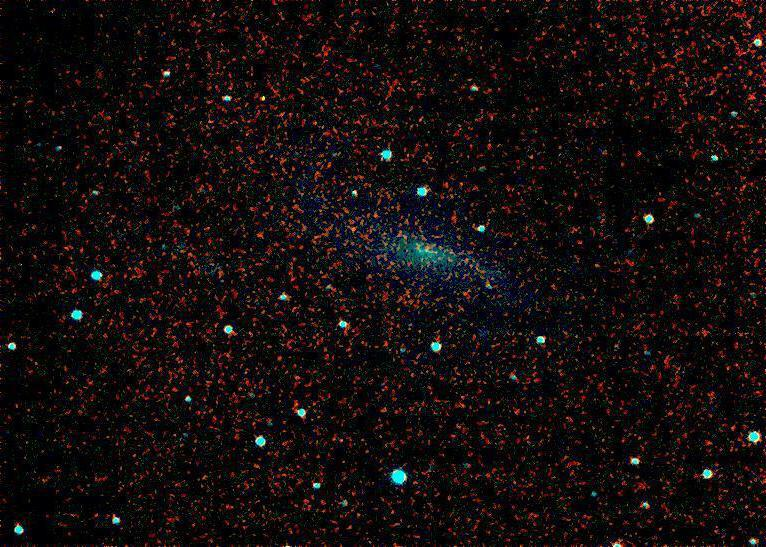star: (339, 210, 369, 240)
